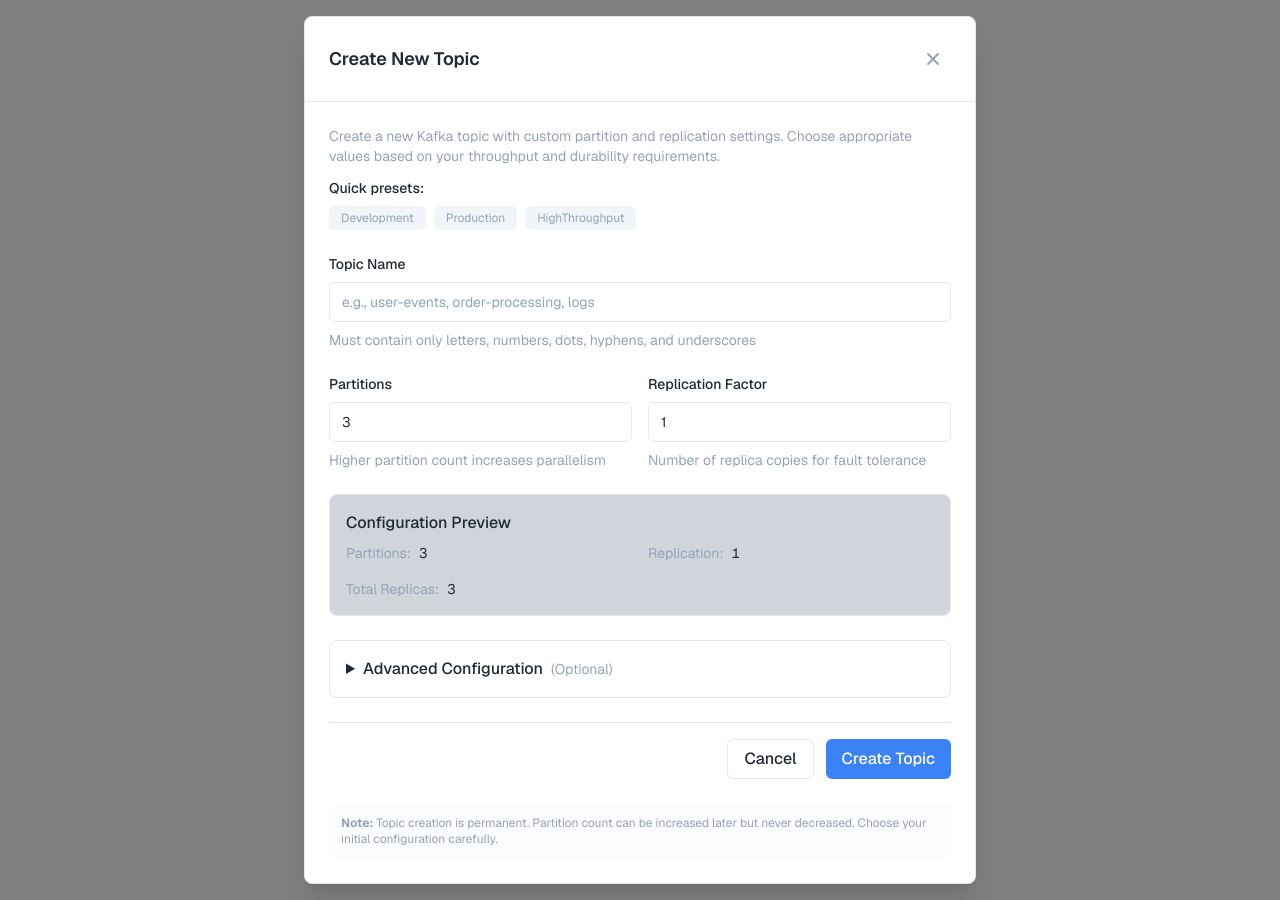
Test case: CreateTopicModal › should apply high throughput preset correctly
Click high throughput preset
Step 1. Click the button "HighThroughput" → (581, 218), box [525, 206, 636, 230]
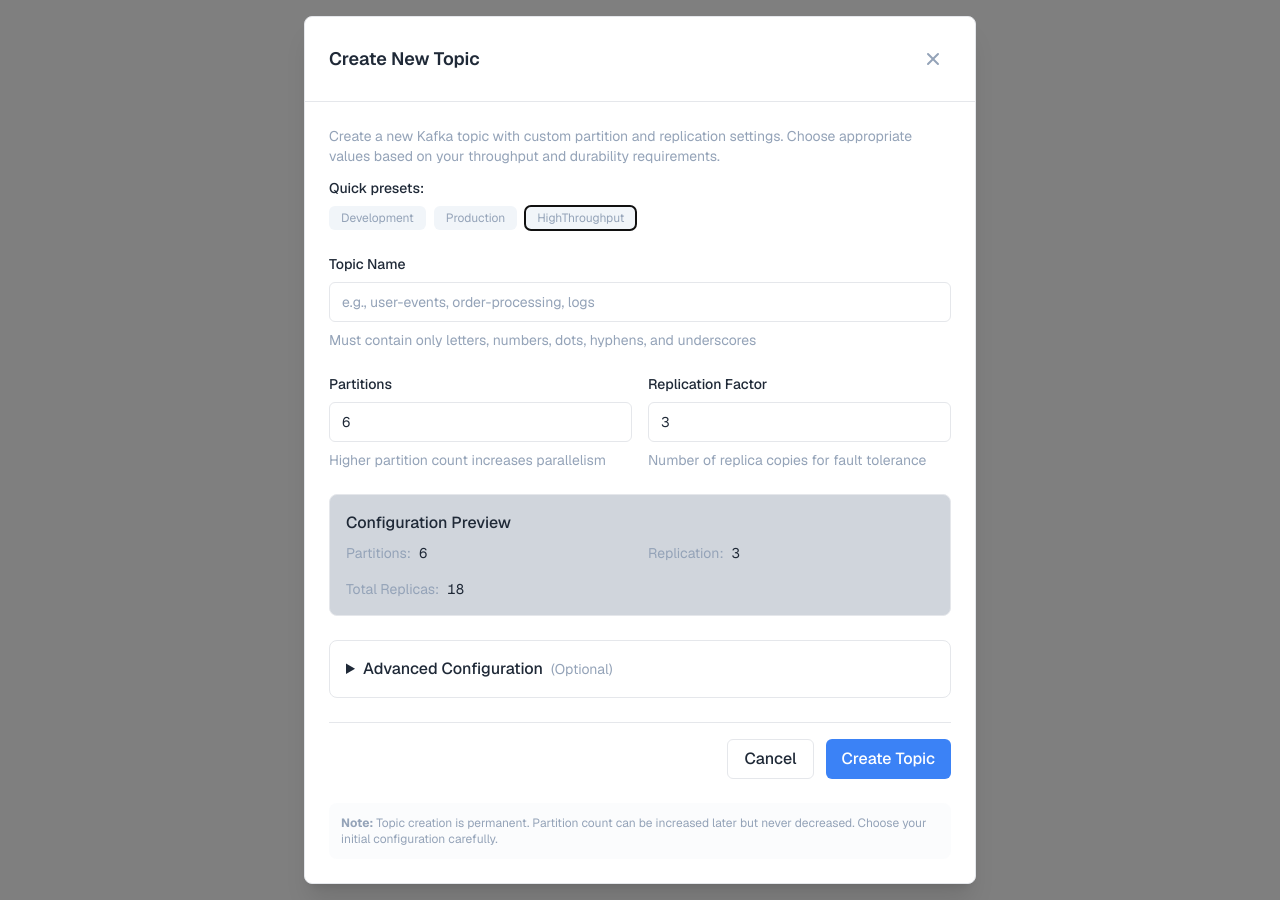
Expected: the number field labelled "Partitions" holds "6", [329, 402, 632, 442]
Expected: the number field labelled "Replication Factor" holds "3", [648, 402, 951, 442]
